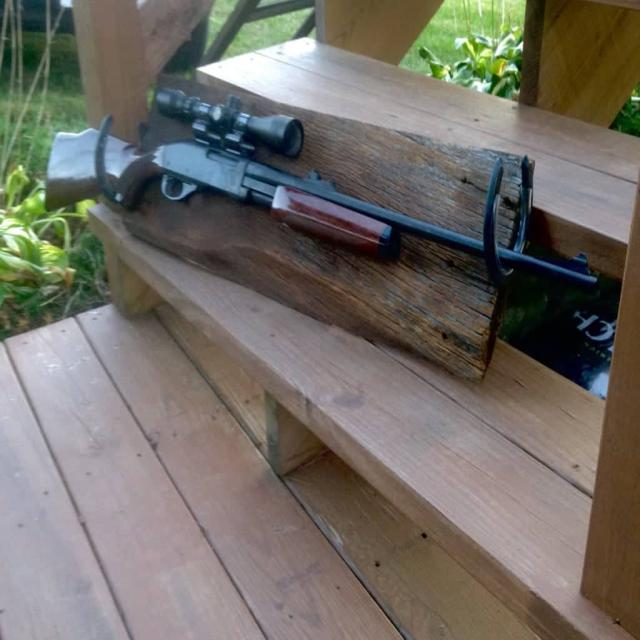ShotGun: (46, 87, 599, 286)
